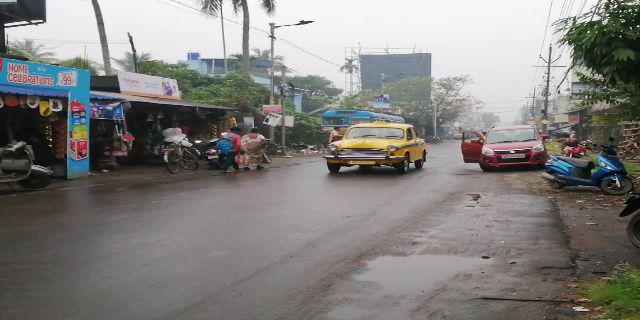Car: (324, 122, 428, 180), (470, 125, 546, 169)
Motorbike: (544, 147, 634, 200)
